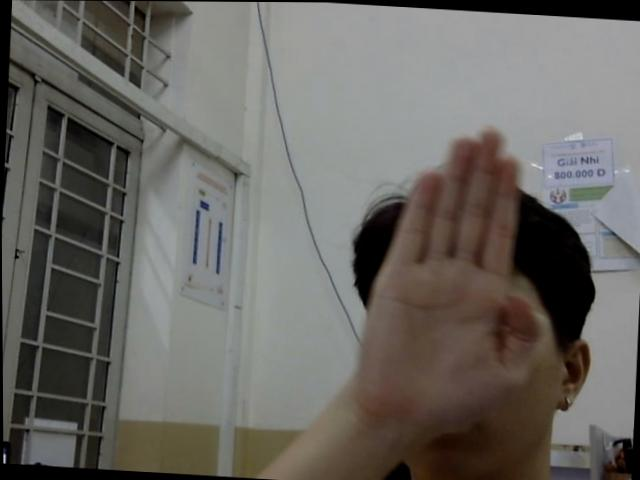B: (356, 115, 569, 437)
